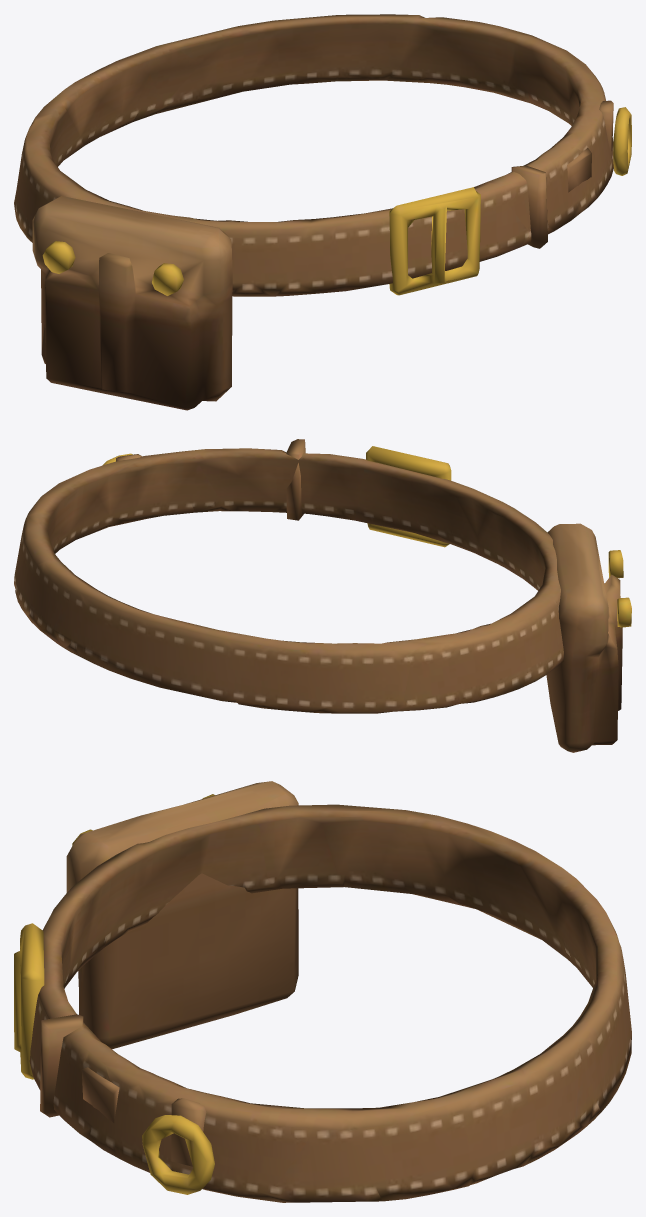
The model's file is belt.glb.
3 renders of one model, top to bottom at view 1: azimuth 30°, elevation 25°; view 2: azimuth 150°, elevation 25°; view 3: azimuth 270°, elevation 25°, orthographic. The views are drawn at different scales.
Parts seen in each view (by area): view 1: belt; view 2: belt; view 3: belt.
Part boxes in pixels (x1,y1,x2,y2): belt: (14, 14, 631, 410); belt: (14, 439, 631, 752); belt: (14, 781, 631, 1202).
Bounding box in the file's own units: 0.6488 × 0.1872 × 0.4798.
Materials: 1 (1 with a texture image).
